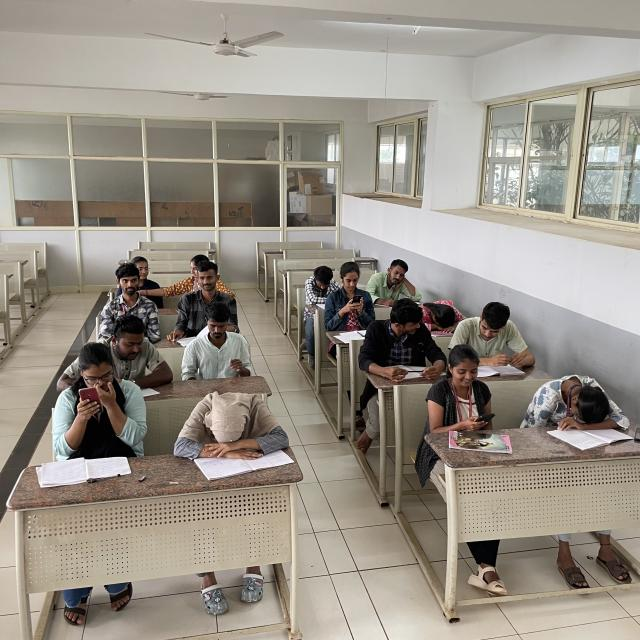Reading: (364, 299, 445, 383), (457, 298, 537, 372)
Sleeping: (176, 387, 291, 458), (522, 368, 627, 428), (416, 296, 470, 338), (306, 265, 344, 308)
Using Phone: (50, 338, 146, 442), (427, 343, 498, 432), (329, 261, 378, 327)
Writing: (372, 256, 426, 308)
